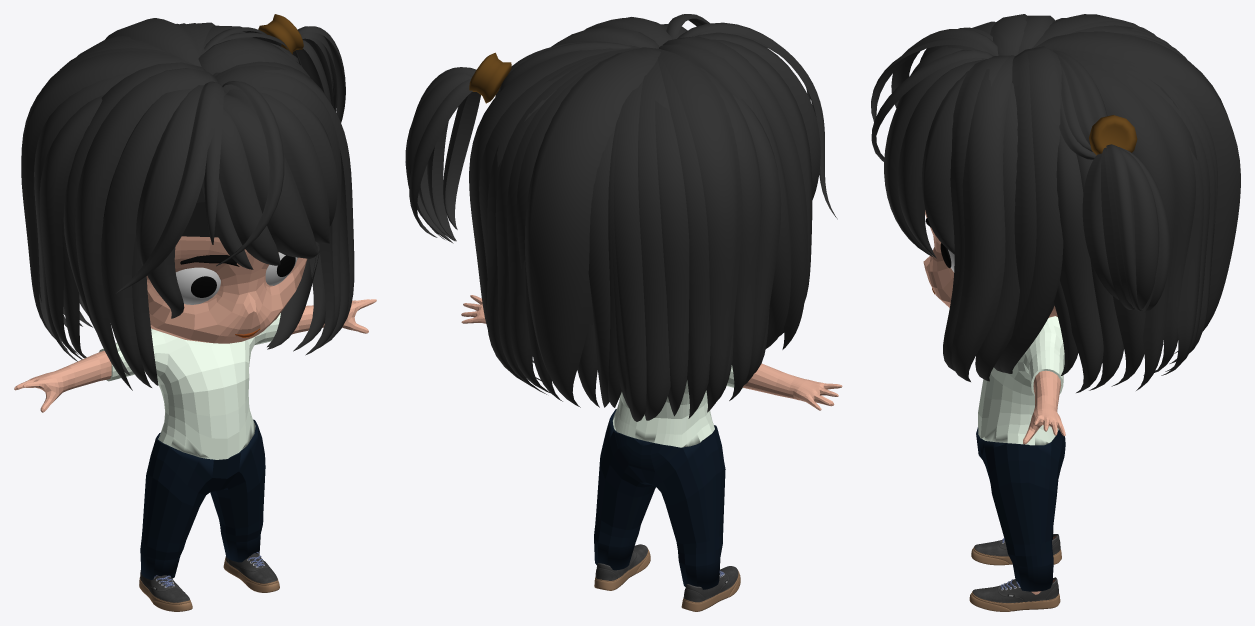
Rendered from girl.gltf.
The picture shows the model from 3 angles, left to right: view 1: azimuth 30°, elevation 25°; view 2: azimuth 150°, elevation 25°; view 3: azimuth 270°, elevation 25°; orthographic projection. The views are drawn at different scales.
Visible parts, largest first — view 1: Hair-female_Nurbs_-_Guia_de_caminho.029, peans, skin, tshert, Plane.001, Plane.009, whiteeye1, fastener_Cilindro, hear; view 2: Hair-female_Nurbs_-_Guia_de_caminho.029, peans, tshert, skin, Plane.009, Plane.001, fastener_Cilindro; view 3: Hair-female_Nurbs_-_Guia_de_caminho.029, peans, tshert, skin, Plane.001, fastener_Cilindro, Plane.009.
Part boxes in pixels (<box>): Hair-female_Nurbs_-_Guia_de_caminho.029: <box>21,18,354,390</box>; peans: <box>140,419,265,579</box>; skin: <box>14,236,376,412</box>; tshert: <box>99,313,280,459</box>; Plane.001: <box>223,552,279,592</box>; Plane.009: <box>139,570,192,611</box>; whiteeye1: <box>176,267,220,304</box>; fastener_Cilindro: <box>258,14,303,54</box>; hear: <box>103,175,218,237</box>; Hair-female_Nurbs_-_Guia_de_caminho.029: <box>405,14,837,421</box>; peans: <box>594,409,725,589</box>; tshert: <box>612,365,742,447</box>; skin: <box>461,295,842,410</box>; Plane.009: <box>681,566,740,611</box>; Plane.001: <box>594,544,650,590</box>; fastener_Cilindro: <box>469,52,511,103</box>; Hair-female_Nurbs_-_Guia_de_caminho.029: <box>871,14,1240,392</box>; peans: <box>976,427,1065,591</box>; tshert: <box>978,316,1064,445</box>; skin: <box>923,210,1065,594</box>; Plane.001: <box>969,577,1060,611</box>; fastener_Cilindro: <box>1089,115,1137,155</box>; Plane.009: <box>971,534,1061,565</box>.
Bounding box in the file's own units: 1.22 × 1.67 × 1.02.
